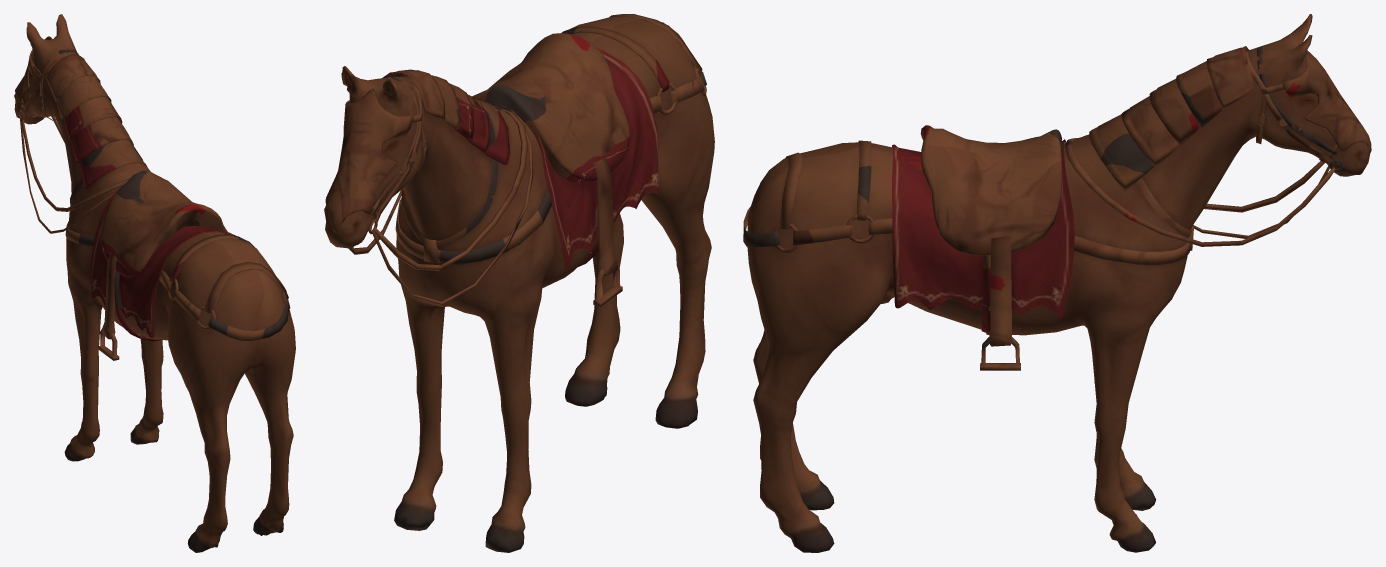
The model's file is cavallo_bardato_lod.gltf.
3 views of the same model, side by side, from view 1: azimuth 30°, elevation 25°; view 2: azimuth 150°, elevation 25°; view 3: azimuth 270°, elevation 25° (orthographic). The views are drawn at different scales.
Visible parts, largest first — view 1: animal; view 2: animal; view 3: animal.
Boxes of the visible parts, x1=… form: animal: x1=14, y1=14, x2=295, y2=552; animal: x1=324, y1=14, x2=714, y2=552; animal: x1=743, y1=14, x2=1371, y2=552.
Bounding box in the file's own units: 0.5232 × 1.62 × 1.84.
Materials: 1 (1 with a texture image).
